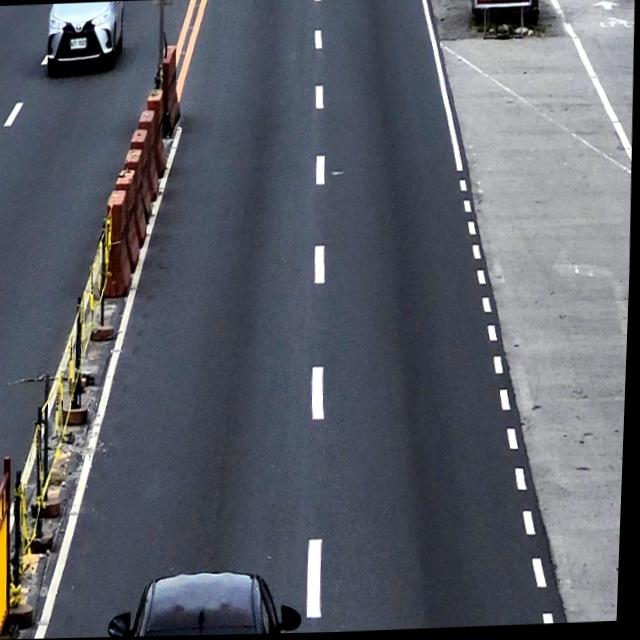Car: (109, 569, 307, 638)
